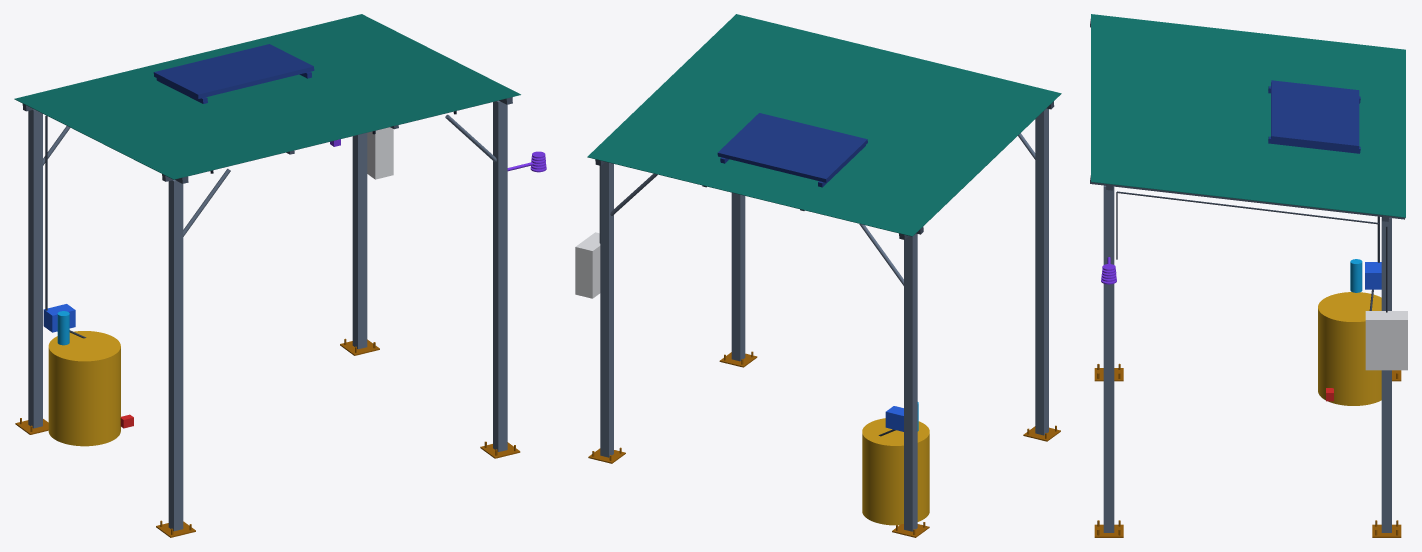
3 renders of one model, left to right at view 1: azimuth 30°, elevation 25°; view 2: azimuth 150°, elevation 25°; view 3: azimuth 270°, elevation 25°, orthographic. The views are drawn at different scales.
Visible parts, largest first — view 1: Shade fabric, knitted HDPE, Posts, 80 x 80 mm steel, with knee braces, Water tank, 120 L, Solar panel, 100 W, Base plates and anchors, Controller and enclosure, Hose and wiring harness; view 2: Shade fabric, knitted HDPE, Posts, 80 x 80 mm steel, with knee braces, Solar panel, 100 W, Water tank, 120 L, Controller and enclosure, Base plates and anchors; view 3: Shade fabric, knitted HDPE, Posts, 80 x 80 mm steel, with knee braces, Water tank, 120 L, Solar panel, 100 W, Controller and enclosure, Base plates and anchors, Hose and wiring harness, Roof frame, 50 x 50 mm steel, Misting pump, 12 V, Filter, 5 um.
Part boxes in pixels (x1,y1,x2,y2): Shade fabric, knitted HDPE: [14, 14, 520, 179]; Posts, 80 x 80 mm steel, with knee braces: [28, 100, 507, 531]; Water tank, 120 L: [48, 331, 120, 446]; Solar panel, 100 W: [153, 44, 314, 103]; Base plates and anchors: [15, 338, 520, 537]; Controller and enclosure: [367, 127, 393, 179]; Hose and wiring harness: [45, 115, 86, 338]; Shade fabric, knitted HDPE: [587, 14, 1061, 236]; Posts, 80 x 80 mm steel, with knee braces: [600, 108, 1048, 531]; Solar panel, 100 W: [717, 113, 867, 187]; Water tank, 120 L: [862, 418, 929, 525]; Controller and enclosure: [575, 232, 600, 298]; Base plates and anchors: [588, 351, 1060, 537]; Shade fabric, knitted HDPE: [1091, 14, 1405, 217]; Posts, 80 x 80 mm steel, with knee braces: [1103, 185, 1391, 532]; Water tank, 120 L: [1318, 292, 1381, 405]; Solar panel, 100 W: [1268, 80, 1360, 153]; Controller and enclosure: [1365, 311, 1407, 370]; Base plates and anchors: [1094, 363, 1401, 537]; Hose and wiring harness: [1116, 191, 1387, 312]; Roof frame, 50 x 50 mm steel: [1090, 19, 1405, 221]; Misting pump, 12 V: [1365, 262, 1381, 289]; Filter, 5 um: [1350, 259, 1362, 292].
Bounding box in the file's own units: 3.3 × 2.97 × 2.4.
